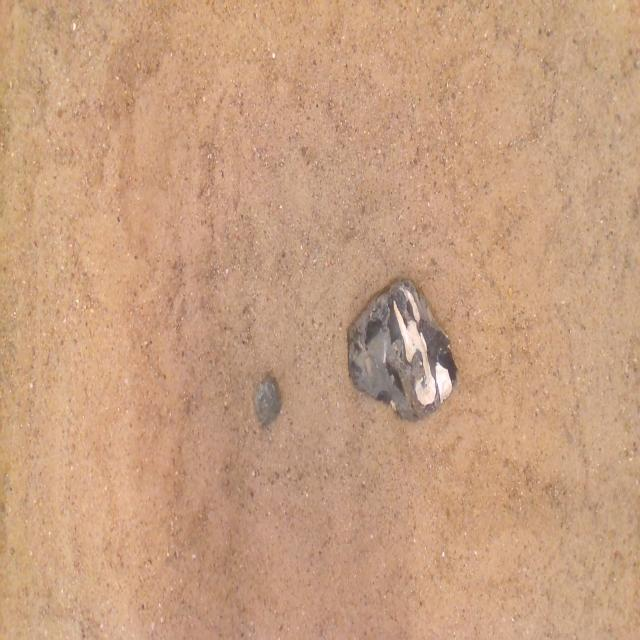rock: (348, 280, 456, 420), (254, 376, 281, 427)
